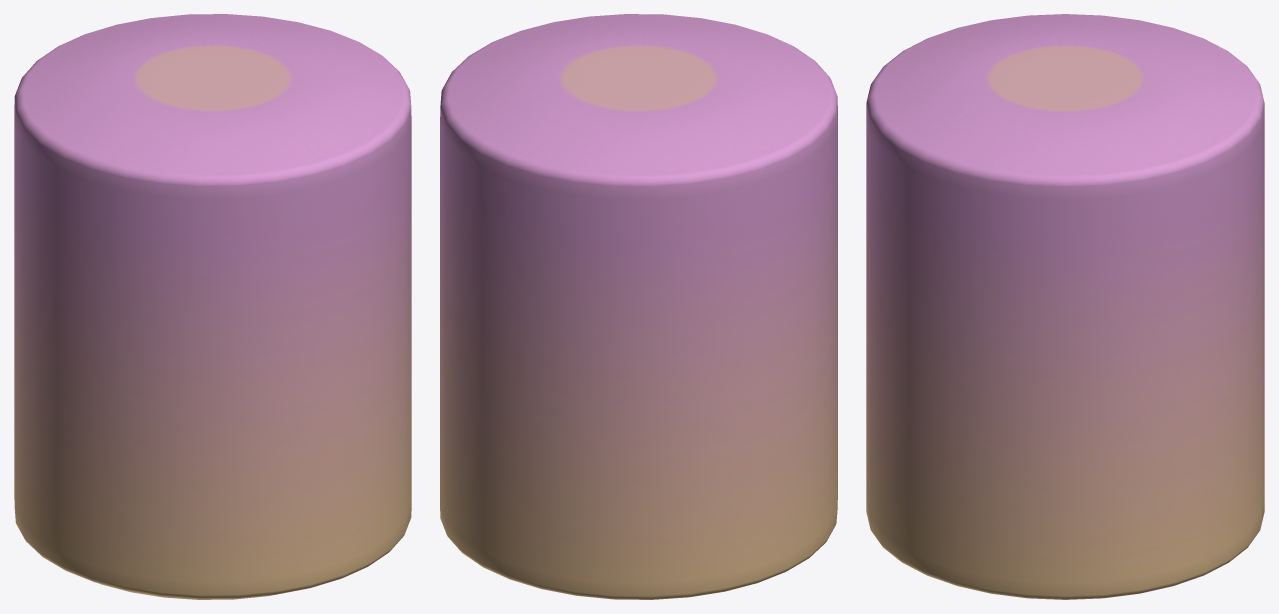
3 renders of one model, left to right at view 1: azimuth 30°, elevation 25°; view 2: azimuth 150°, elevation 25°; view 3: azimuth 270°, elevation 25°, orthographic.
Visible parts, largest first — view 1: 圆柱体; view 2: 圆柱体; view 3: 圆柱体.
Boxes of the visible parts, x1=… form: 圆柱体: x1=14, y1=14, x2=411, y2=599; 圆柱体: x1=440, y1=14, x2=837, y2=599; 圆柱体: x1=866, y1=14, x2=1264, y2=599.
Size of the model in its own units: 1.77 by 2.19 by 1.77.
1 material, 1 textured.
